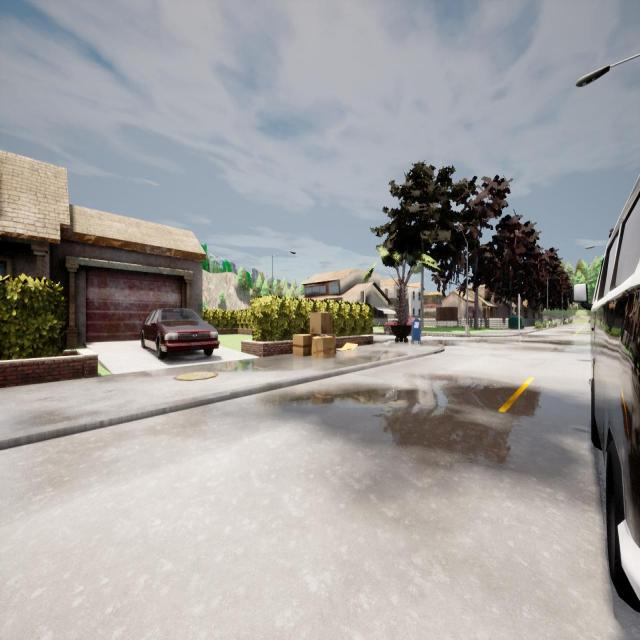Vehicle: (571, 178, 640, 612), (141, 308, 219, 359), (383, 315, 419, 336)
traffic_light: (360, 290, 364, 302), (518, 297, 522, 309)
